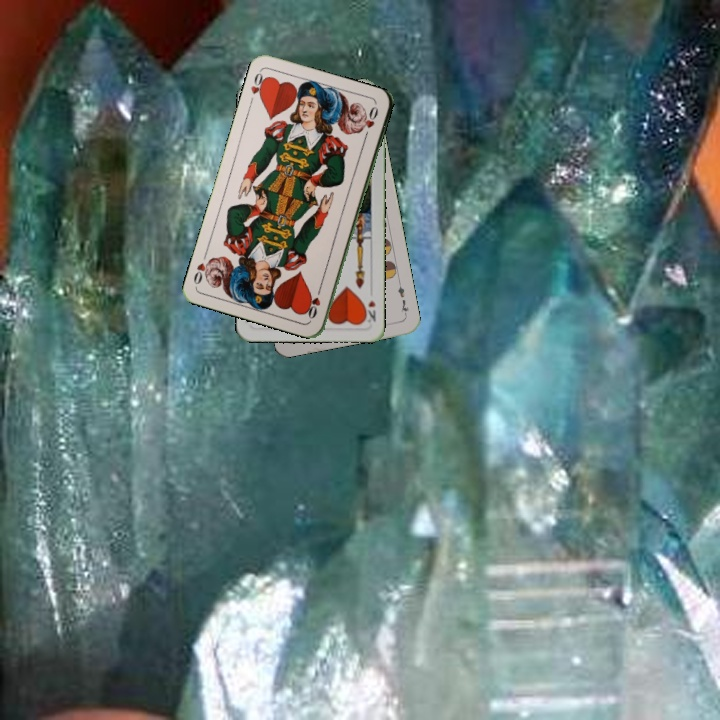E7: (394, 278, 411, 318)
HK: (360, 296, 378, 325)
HO: (247, 67, 270, 102), (304, 282, 324, 322)
